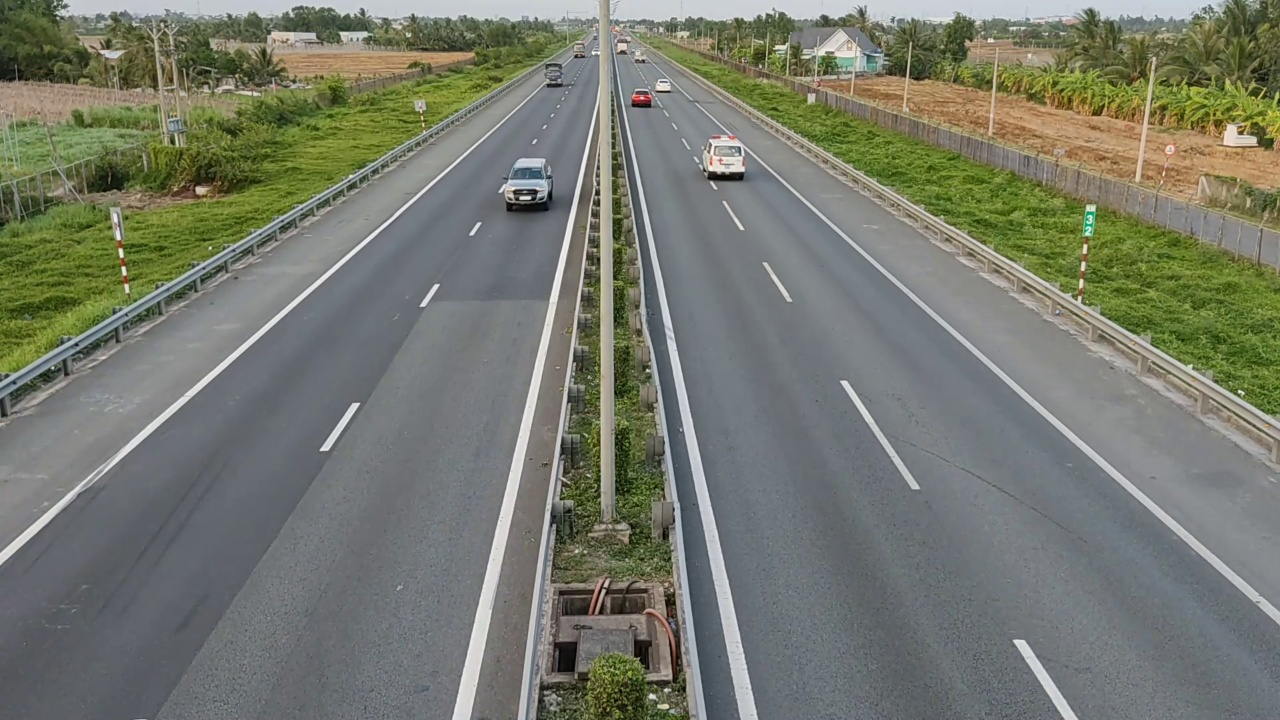car: (498, 150, 558, 215), (702, 134, 746, 179), (631, 88, 653, 107)
